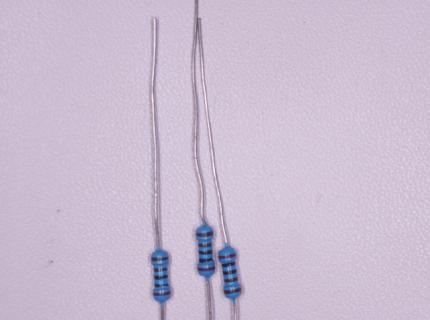Black band: (222, 269, 237, 275), (154, 274, 168, 280), (222, 261, 236, 267), (154, 283, 168, 288), (199, 258, 213, 263), (199, 250, 213, 255)
Brown band: (224, 288, 242, 295), (196, 231, 214, 237), (224, 277, 238, 283), (153, 267, 168, 272), (151, 257, 168, 261), (198, 243, 213, 247)
Red band: (219, 253, 237, 259), (153, 291, 171, 296), (198, 267, 215, 272)
